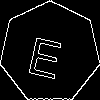E: (25, 27, 67, 80)
